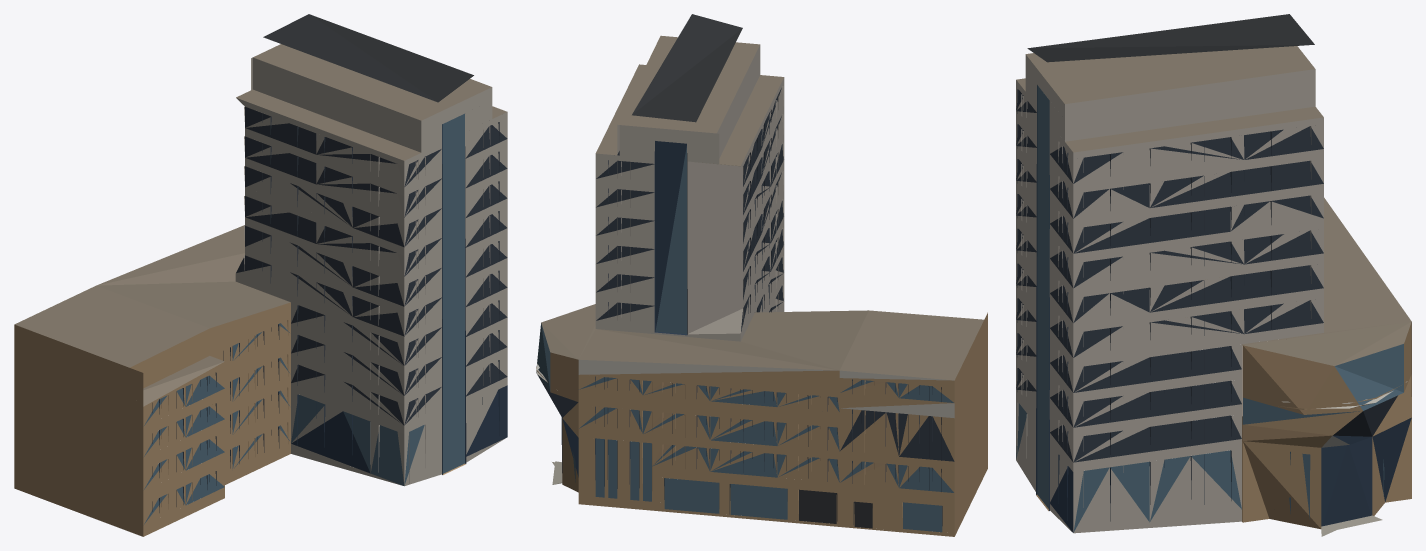
The model's file is sarphati-plaza.lod2.glb.
3 views of the same model, side by side, from view 1: azimuth 30°, elevation 25°; view 2: azimuth 150°, elevation 25°; view 3: azimuth 270°, elevation 25° (orthographic). The views are drawn at different scales.
Visible parts, largest first — view 1: lod2; view 2: lod2; view 3: lod2.
Part boxes in pixels (<box>): lod2: <box>14,14,507,536</box>; lod2: <box>536,14,987,536</box>; lod2: <box>1016,14,1411,536</box>.
Bounding box in the file's own units: 46.4 × 42.07 × 32.97.
